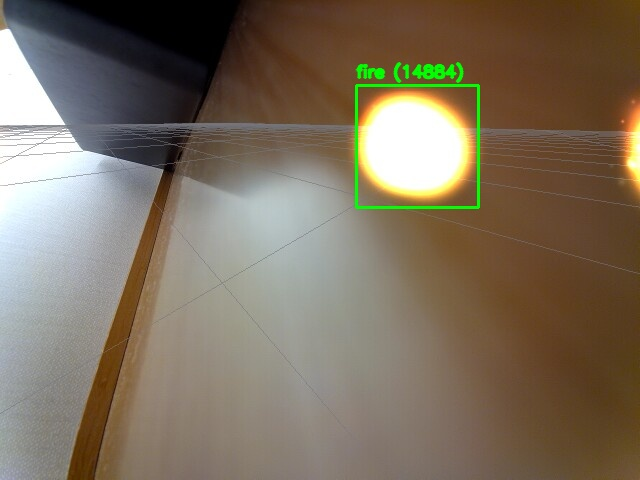fire: (356, 85, 478, 207)
